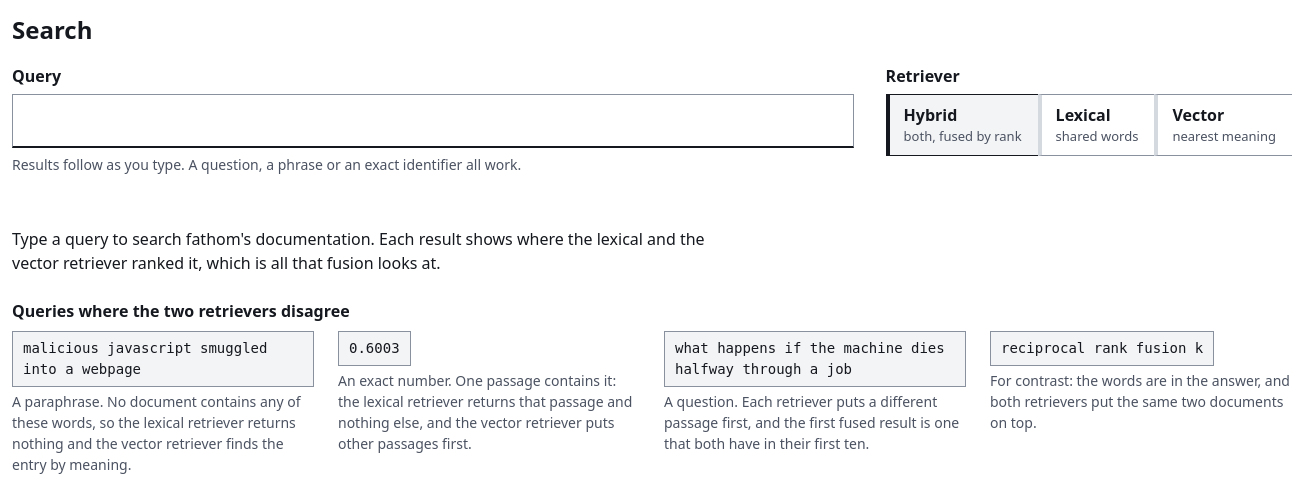
Scenario: the search view › runs an example query when its button is pressed
Step 1. Click the button "0.6003" → (374, 348), box [338, 331, 411, 366]
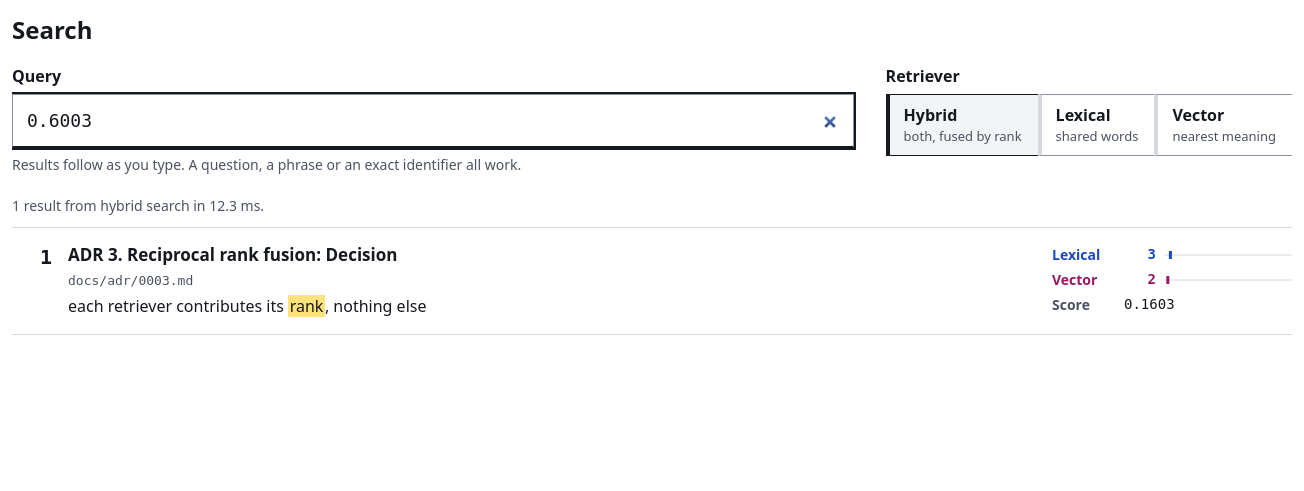
expect the heading "ADR 3. Reciprocal rank fusion: Decision" is shown: met, box [68, 243, 397, 266]
expect the search field labelled "Query" holds "0.6003": met, box [12, 94, 854, 148]
